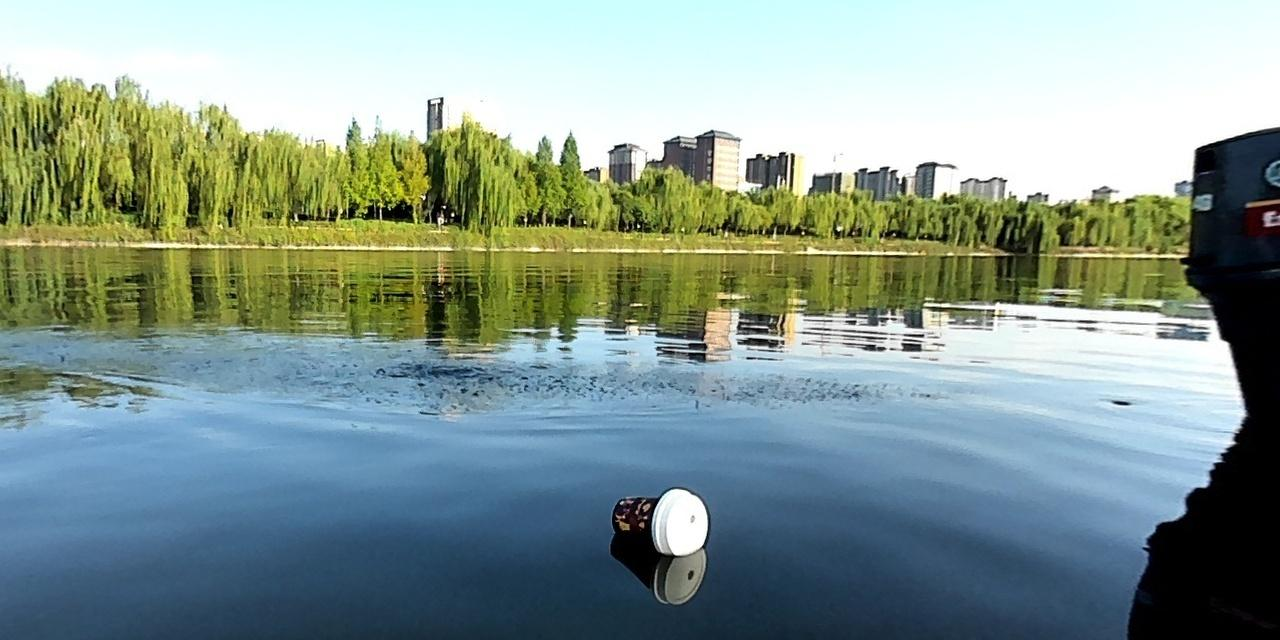bottle: (608, 482, 709, 558)
